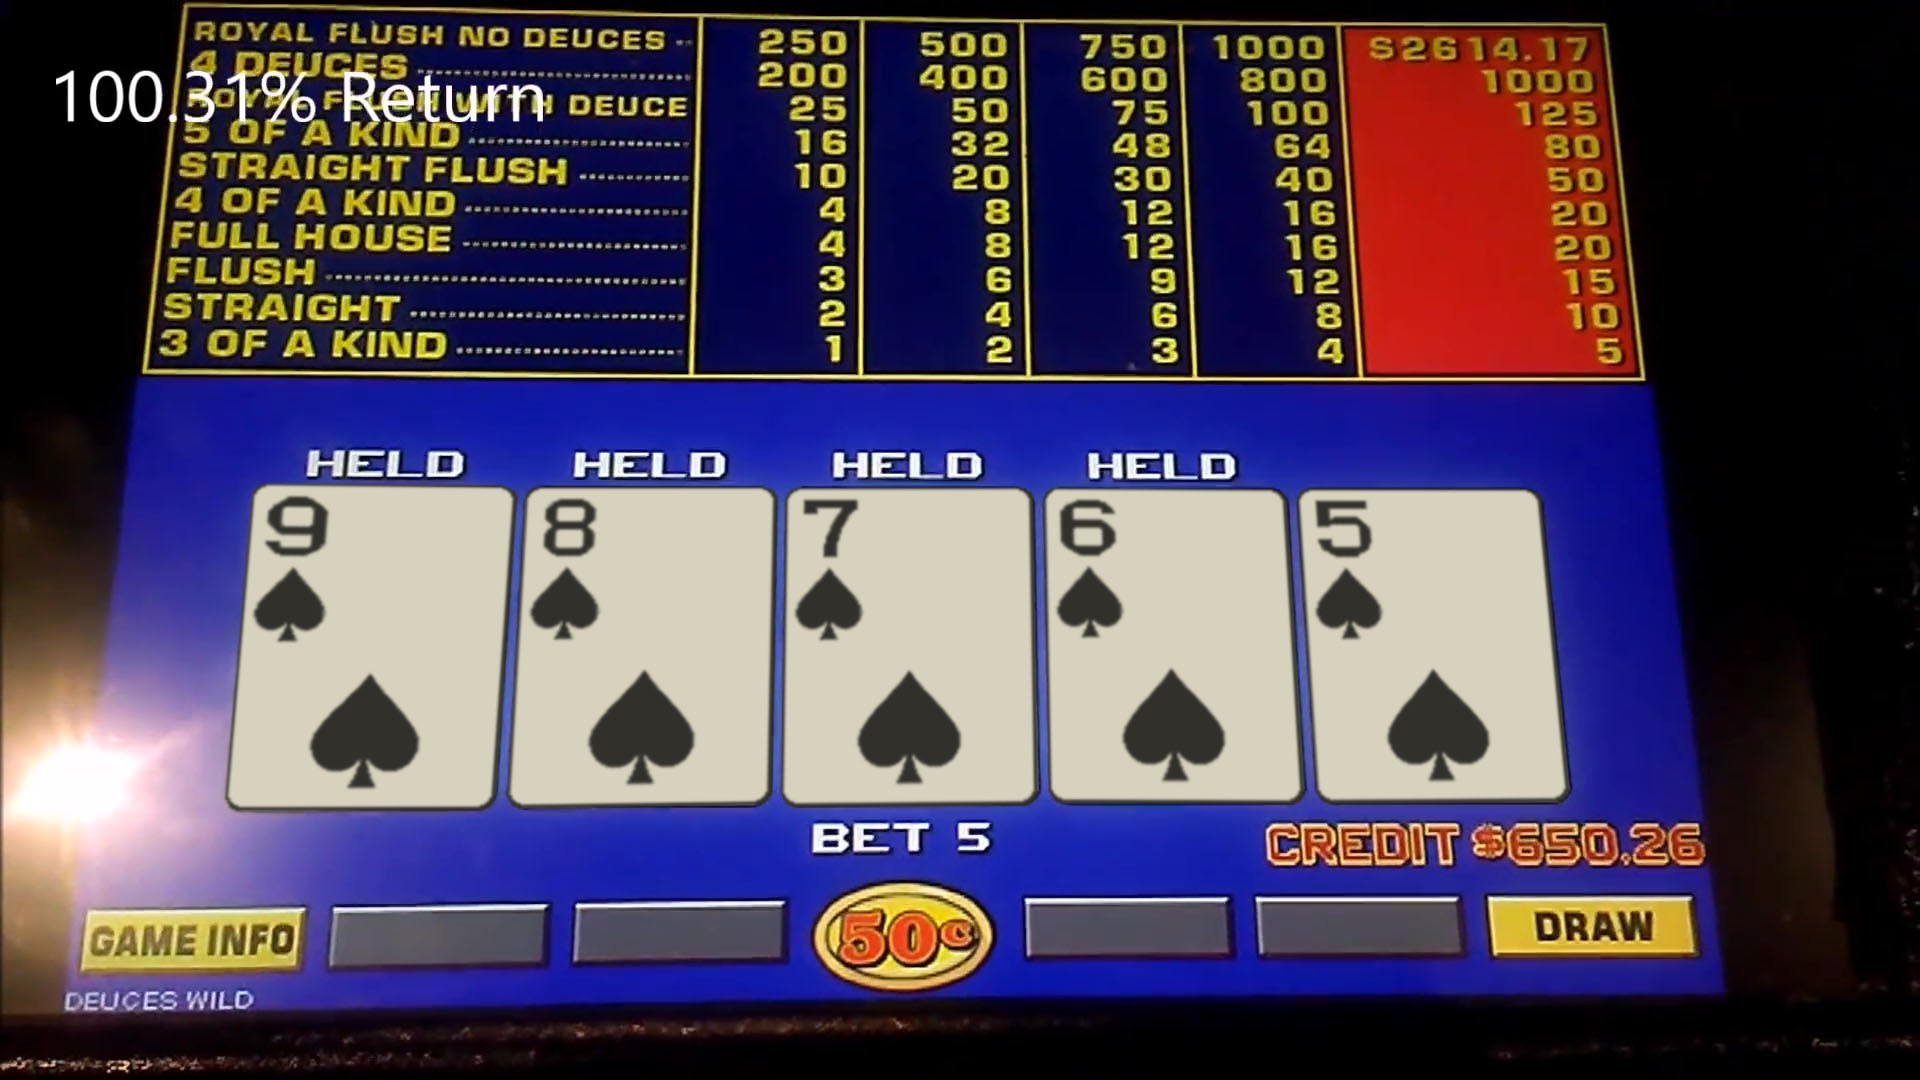S5: (1313, 492, 1549, 802)
S6: (1048, 492, 1290, 800)
S7: (786, 489, 1035, 803)
S8: (517, 491, 764, 802)
S9: (247, 487, 498, 808)
